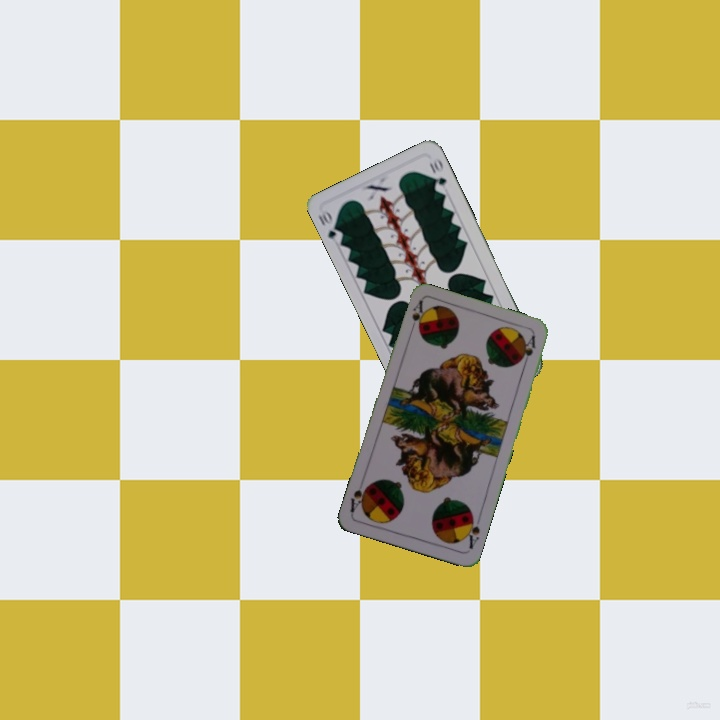G10: (314, 205, 346, 243)
SA: (461, 510, 482, 552), (405, 297, 425, 336)
